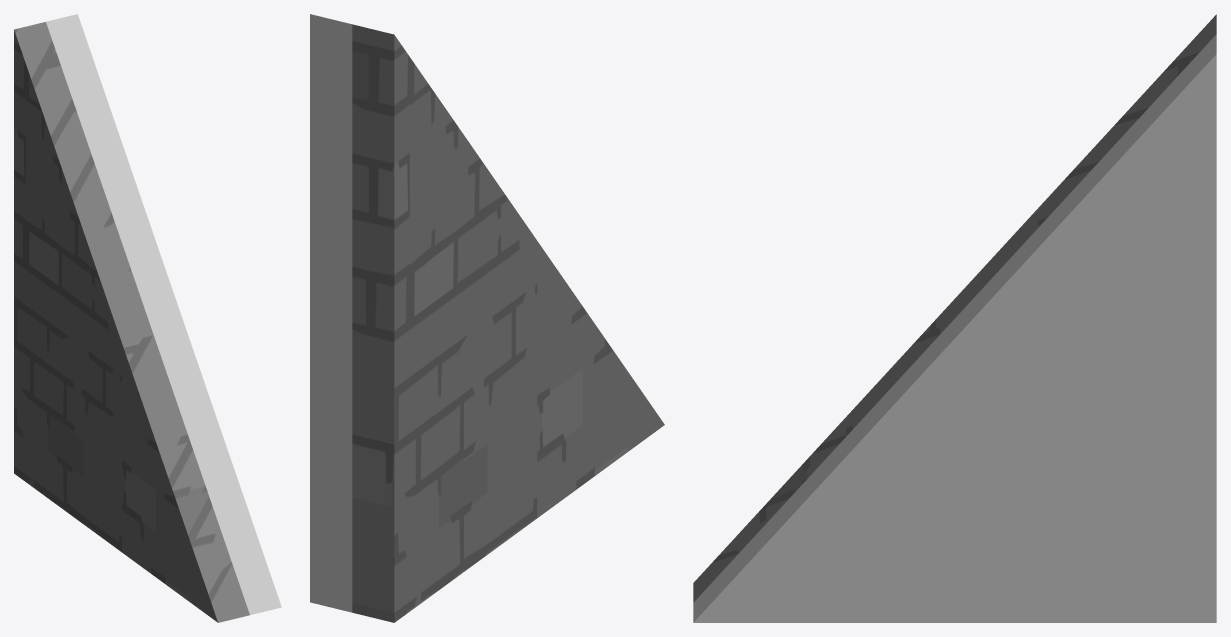
Rendered from SM_Bld_Wall_End_Straight_Small_01.fbx.
The picture shows the model from 3 angles, left to right: view 1: azimuth 30°, elevation 25°; view 2: azimuth 150°, elevation 25°; view 3: azimuth 270°, elevation 25°; orthographic projection. The views are drawn at different scales.
Visible parts, largest first — view 1: SM_Bld_Wall_End_Straight_Small_01; view 2: SM_Bld_Wall_End_Straight_Small_01; view 3: SM_Bld_Wall_End_Straight_Small_01.
Boxes of the visible parts, x1,y1,x2,y2 form: SM_Bld_Wall_End_Straight_Small_01: (14, 14, 281, 622); SM_Bld_Wall_End_Straight_Small_01: (310, 14, 664, 622); SM_Bld_Wall_End_Straight_Small_01: (693, 14, 1216, 622).
Bounding box in the file's own units: 22.5 × 150 × 125.
